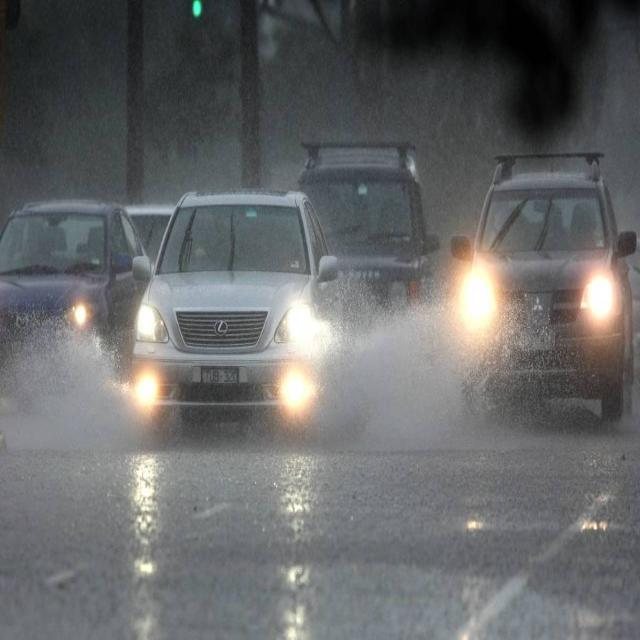car: (449, 152, 637, 427), (128, 190, 332, 432), (293, 138, 436, 364), (0, 200, 154, 400)
